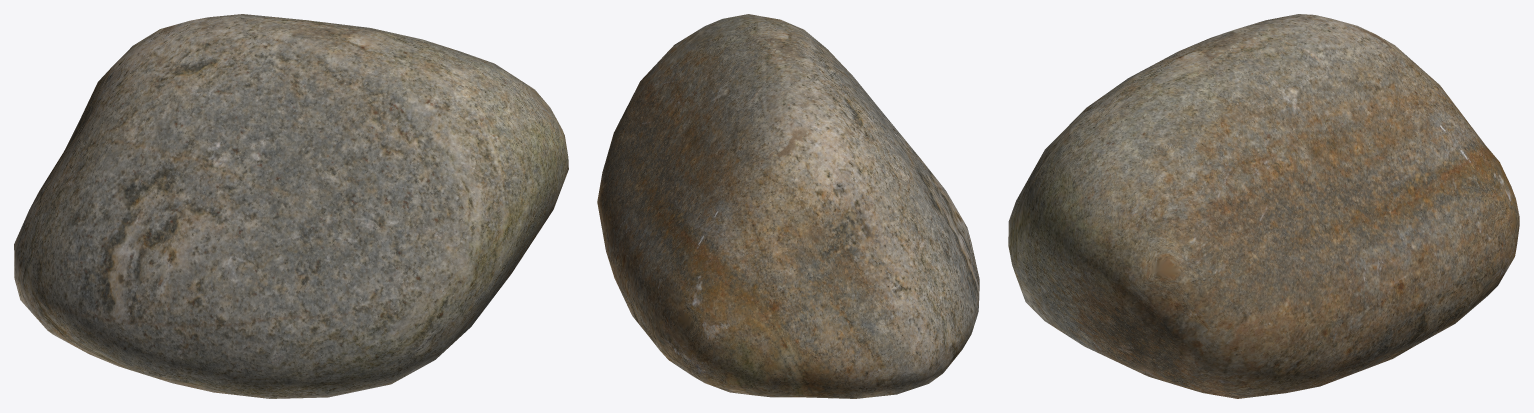
Rendered from uknmedo_tier_2.gltf.
3 renders of one model, left to right at view 1: azimuth 30°, elevation 25°; view 2: azimuth 150°, elevation 25°; view 3: azimuth 270°, elevation 25°, orthographic. The views are drawn at different scales.
Visible parts, largest first — view 1: uknmedo_LOD0_TIER2_000; view 2: uknmedo_LOD0_TIER2_000; view 3: uknmedo_LOD0_TIER2_000.
Boxes of the visible parts, box(x1,y1,x2,y2) form: uknmedo_LOD0_TIER2_000: box(14, 14, 568, 398); uknmedo_LOD0_TIER2_000: box(597, 14, 979, 398); uknmedo_LOD0_TIER2_000: box(1008, 14, 1519, 398).
Size of the model in its own units: 0.3945 by 0.2638 by 0.3949.
Materials: 1 (1 with a texture image).
